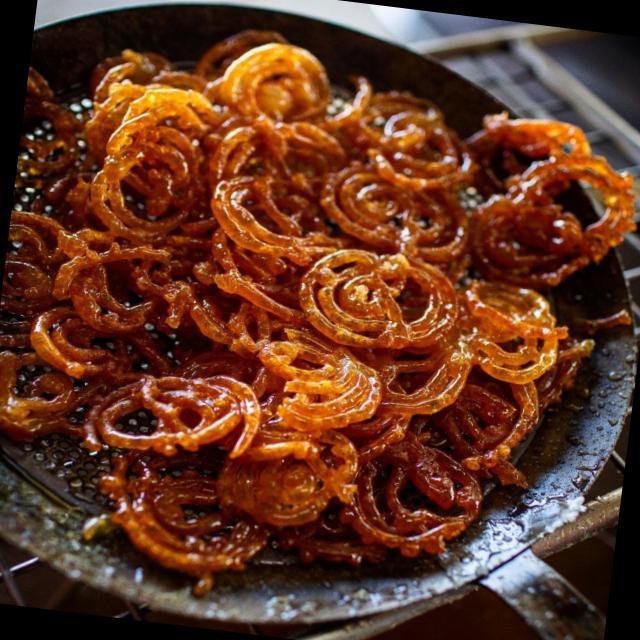jalebi: (0, 14, 640, 605)
